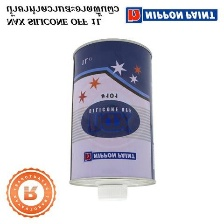cleaning_solution: (65, 35, 157, 204)
